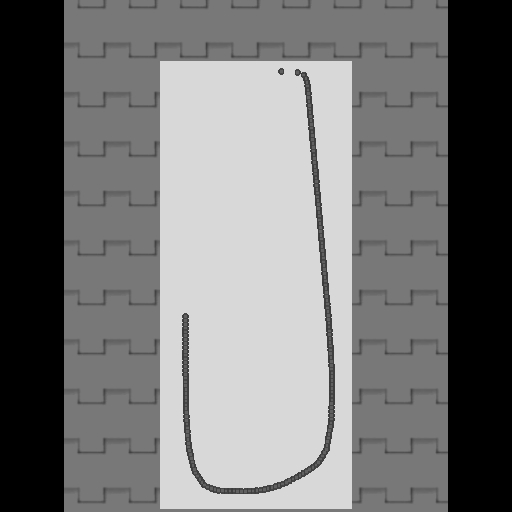Defect: (180, 81, 222, 311)
